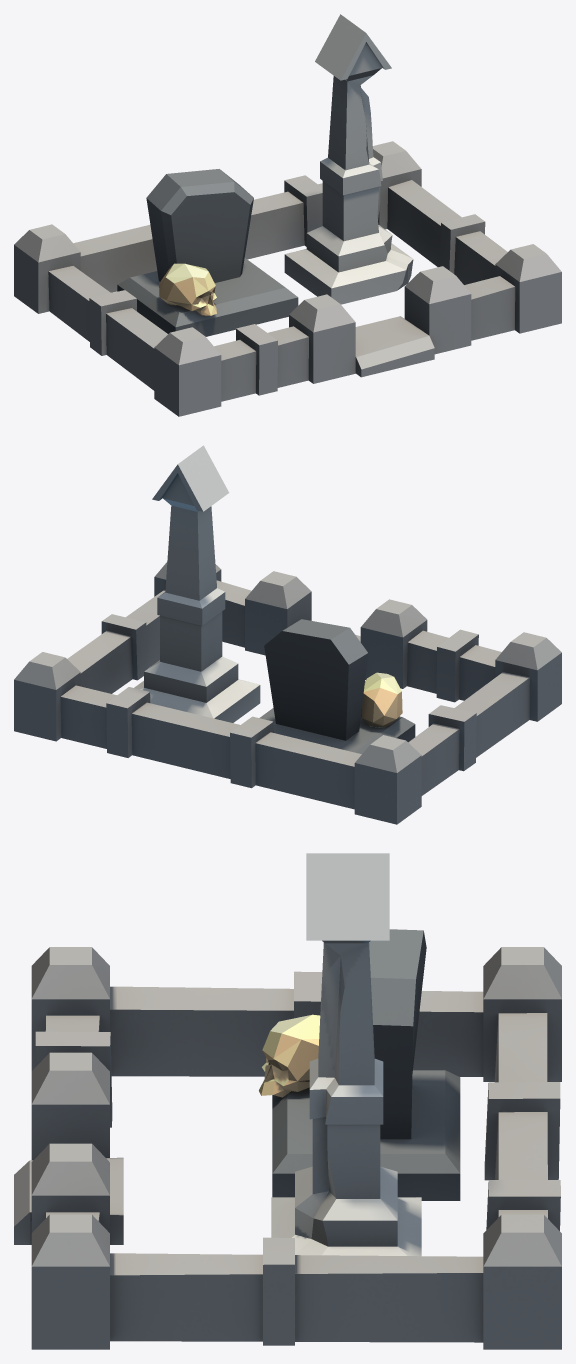
Rendered from cemetery.glb.
The picture shows the model from 3 angles, top to bottom: view 1: azimuth 30°, elevation 25°; view 2: azimuth 150°, elevation 25°; view 3: azimuth 270°, elevation 25°; orthographic projection. The views are drawn at different scales.
Parts seen in each view (by area): view 1: cemetery; view 2: cemetery; view 3: cemetery.
Boxes of the visible parts, <box> form: cemetery: <box>14,14,561,416</box>; cemetery: <box>14,445,561,824</box>; cemetery: <box>14,853,561,1349</box>.
Size of the model in its own units: 1.97 by 1.25 by 1.52.
Materials: 1 (1 with a texture image).
